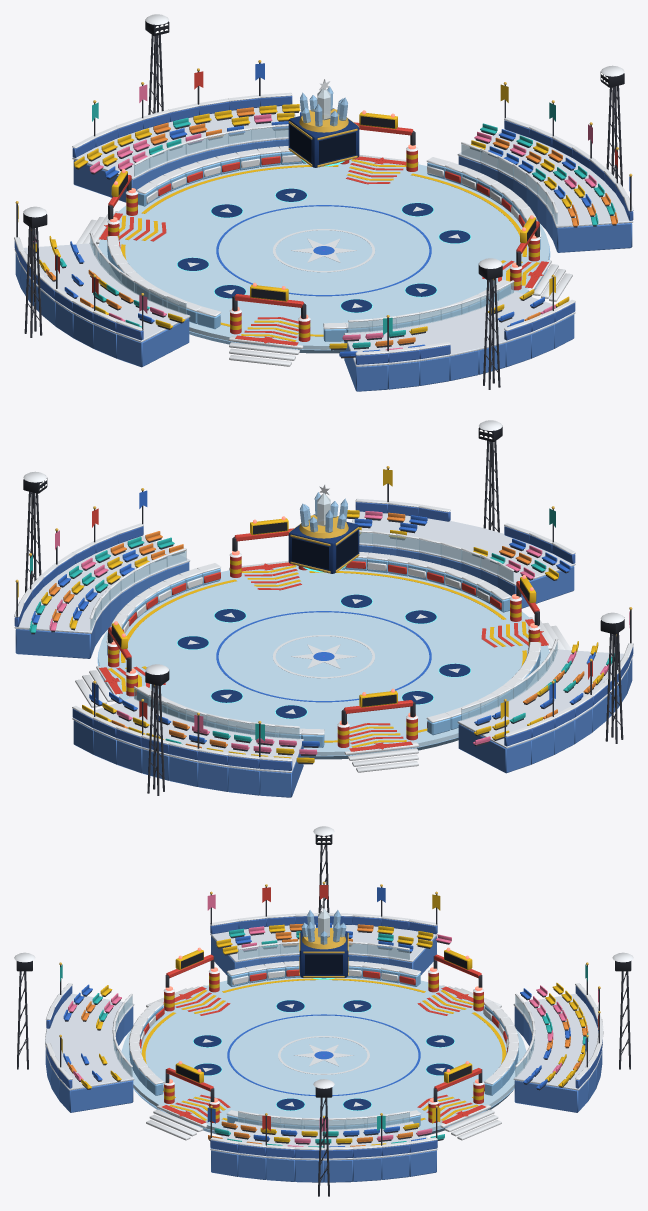
File: AR_Arena.fbx
The picture shows the model from 3 angles, top to bottom: view 1: azimuth 30°, elevation 25°; view 2: azimuth 150°, elevation 25°; view 3: azimuth 270°, elevation 25°; orthographic projection. The views are drawn at different scales.
Parts seen in each view (by area): view 1: ArenaFloor__Ice__CDEBFFIC, Stands__Deck__EAF2FCSP, Stands__Base__5B8ED9SP, Stands__BackWall__4A78C8SP, Stands__Glass__BFE8FFGLT55, Stands__Snow__F6FAFFSP, WallRing__Snow__F6FAFFSP, LightTowers__Steel__3B3F4ASP, WallRing__Ice__8FC8F5IC, Stands__BenchFFC81E__FFC81ESP, Stands__Steel__3B3F4ASP, ExitGates__Snow__F6FAFFSP (+22 smaller); view 2: ArenaFloor__Ice__CDEBFFIC, Stands__Deck__EAF2FCSP, Stands__Base__5B8ED9SP, Stands__BackWall__4A78C8SP, Stands__Glass__BFE8FFGLT55, Stands__Snow__F6FAFFSP, WallRing__Snow__F6FAFFSP, LightTowers__Steel__3B3F4ASP, WallRing__Ice__8FC8F5IC, Stands__Steel__3B3F4ASP, ExitGates__Snow__F6FAFFSP, ArenaFloor__Pad__1F3F7ASP (+22 smaller); view 3: ArenaFloor__Ice__CDEBFFIC, Stands__Deck__EAF2FCSP, Stands__Base__5B8ED9SP, Stands__BackWall__4A78C8SP, WallRing__Snow__F6FAFFSP, Stands__Snow__F6FAFFSP, Stands__Glass__BFE8FFGLT55, WallRing__Ice__8FC8F5IC, ExitGates__Snow__F6FAFFSP, Stands__Steel__3B3F4ASP, Stands__BenchFFC81E__FFC81ESP, LightTowers__Steel__3B3F4ASP (+21 smaller).
Part boxes in pixels (x1=…): ArenaFloor__Ice__CDEBFFIC: x1=99, y1=157, x2=549, y2=349; Stands__Deck__EAF2FCSP: x1=14, y1=106, x2=633, y2=366; Stands__Base__5B8ED9SP: x1=15, y1=139, x2=632, y2=391; Stands__BackWall__4A78C8SP: x1=14, y1=96, x2=633, y2=364; Stands__Glass__BFE8FFGLT55: x1=90, y1=126, x2=557, y2=333; Stands__Snow__F6FAFFSP: x1=14, y1=92, x2=633, y2=355; WallRing__Snow__F6FAFFSP: x1=106, y1=146, x2=541, y2=329; LightTowers__Steel__3B3F4ASP: x1=24, y1=34, x2=622, y2=389; WallRing__Ice__8FC8F5IC: x1=107, y1=152, x2=540, y2=341; Stands__BenchFFC81E__FFC81ESP: x1=33, y1=104, x2=584, y2=348; Stands__Steel__3B3F4ASP: x1=16, y1=63, x2=631, y2=358; ExitGates__Snow__F6FAFFSP: x1=76, y1=154, x2=572, y2=366; ArenaFloor__Ice__CDEBFFIC: x1=98, y1=563, x2=548, y2=755; Stands__Deck__EAF2FCSP: x1=14, y1=511, x2=633, y2=772; Stands__Base__5B8ED9SP: x1=15, y1=545, x2=632, y2=797; Stands__BackWall__4A78C8SP: x1=14, y1=502, x2=633, y2=770; Stands__Glass__BFE8FFGLT55: x1=90, y1=532, x2=557, y2=739; Stands__Snow__F6FAFFSP: x1=14, y1=498, x2=633, y2=761; WallRing__Snow__F6FAFFSP: x1=106, y1=552, x2=541, y2=735; LightTowers__Steel__3B3F4ASP: x1=25, y1=440, x2=623, y2=795; WallRing__Ice__8FC8F5IC: x1=107, y1=558, x2=540, y2=747; Stands__Steel__3B3F4ASP: x1=16, y1=469, x2=631, y2=764; ExitGates__Snow__F6FAFFSP: x1=75, y1=560, x2=571, y2=772; ArenaFloor__Pad__1F3F7ASP: x1=177, y1=594, x2=470, y2=718; ArenaFloor__Ice__CDEBFFIC: x1=122, y1=977, x2=525, y2=1130; Stands__Deck__EAF2FCSP: x1=45, y1=924, x2=602, y2=1160; Stands__Base__5B8ED9SP: x1=45, y1=936, x2=602, y2=1182; Stands__BackWall__4A78C8SP: x1=46, y1=916, x2=602, y2=1158; WallRing__Snow__F6FAFFSP: x1=129, y1=961, x2=518, y2=1125; Stands__Snow__F6FAFFSP: x1=46, y1=913, x2=603, y2=1150; Stands__Glass__BFE8FFGLT55: x1=113, y1=943, x2=534, y2=1129; WallRing__Ice__8FC8F5IC: x1=129, y1=966, x2=518, y2=1128; ExitGates__Snow__F6FAFFSP: x1=146, y1=985, x2=501, y2=1140; Stands__Steel__3B3F4ASP: x1=60, y1=884, x2=599, y2=1147; Stands__BenchFFC81E__FFC81ESP: x1=81, y1=924, x2=586, y2=1145; LightTowers__Steel__3B3F4ASP: x1=17, y1=845, x2=630, y2=1196.
Bounding box in the file's own units: 195 × 57.51 × 195.
